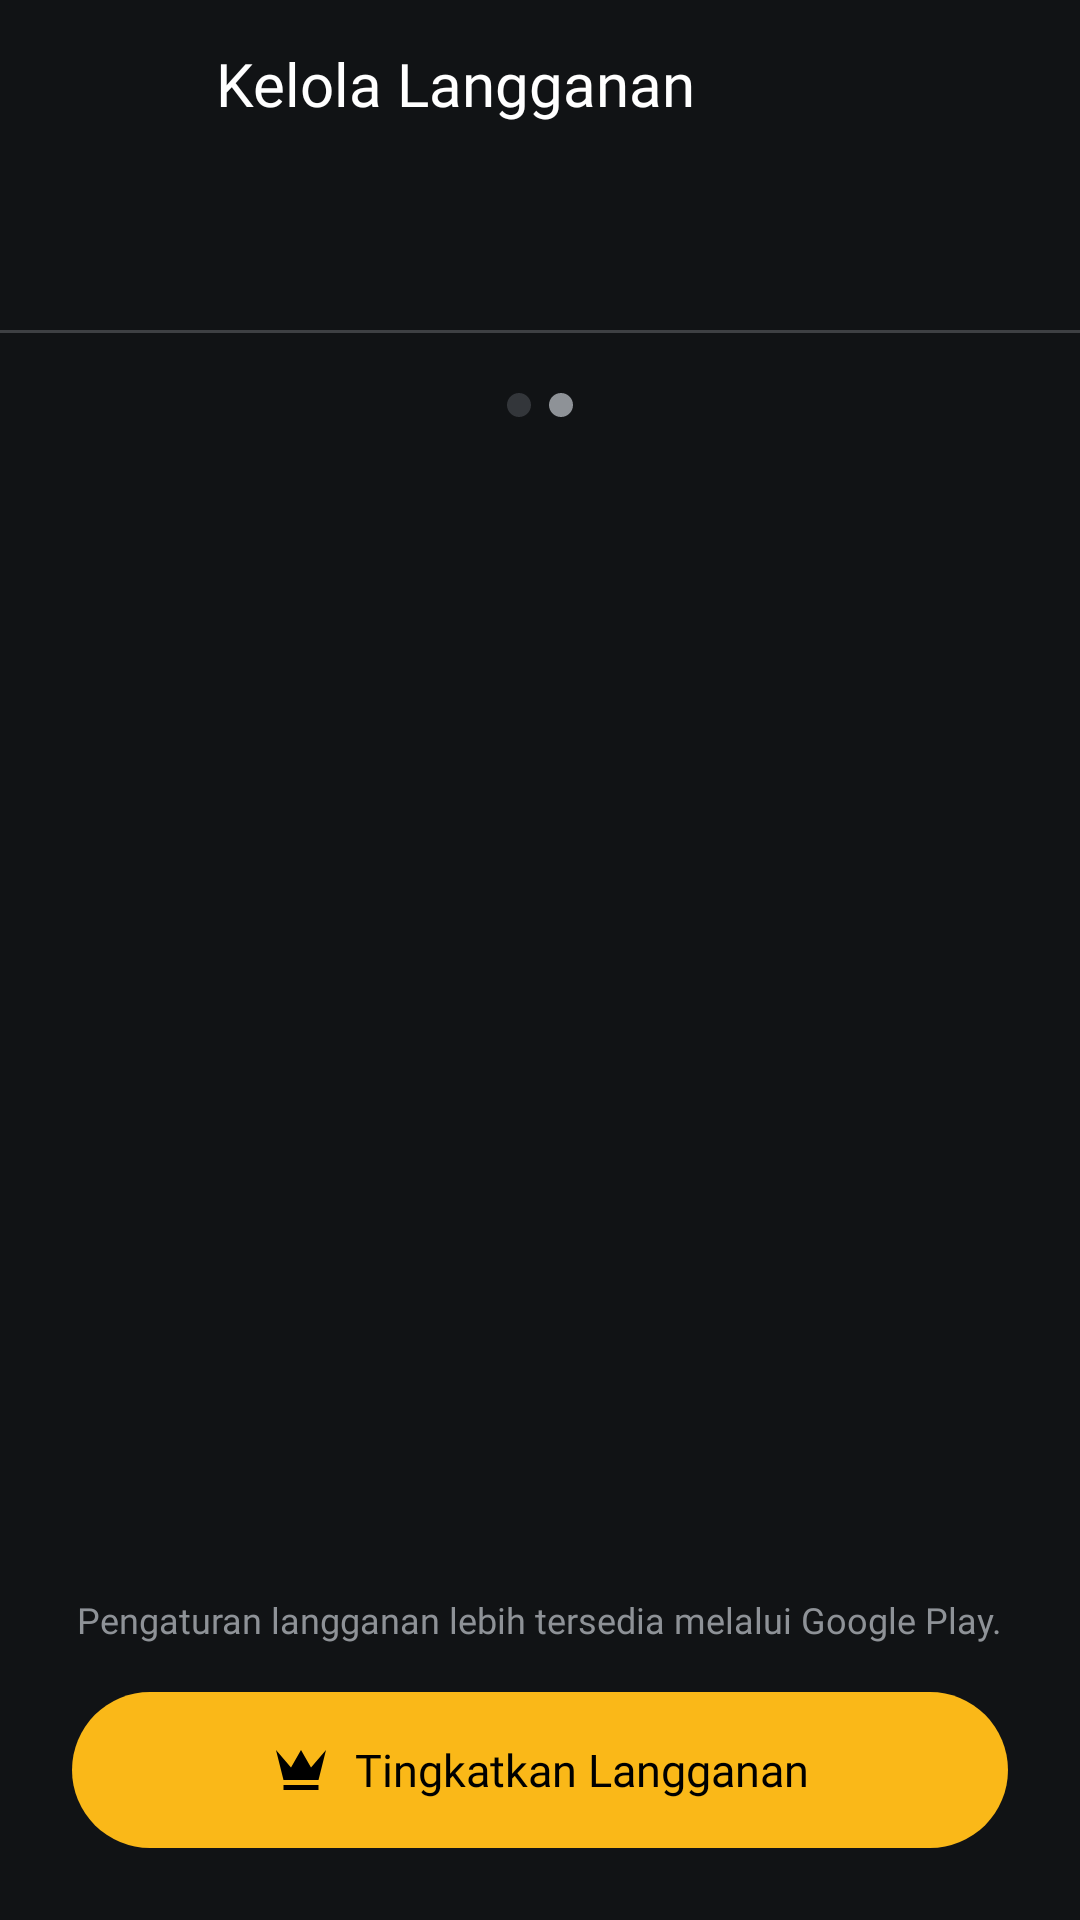

Point at icon controls on the screen. Image size 1080w x 1920h, points as (x=x, y=y).
crown: (x=301, y=1770)
